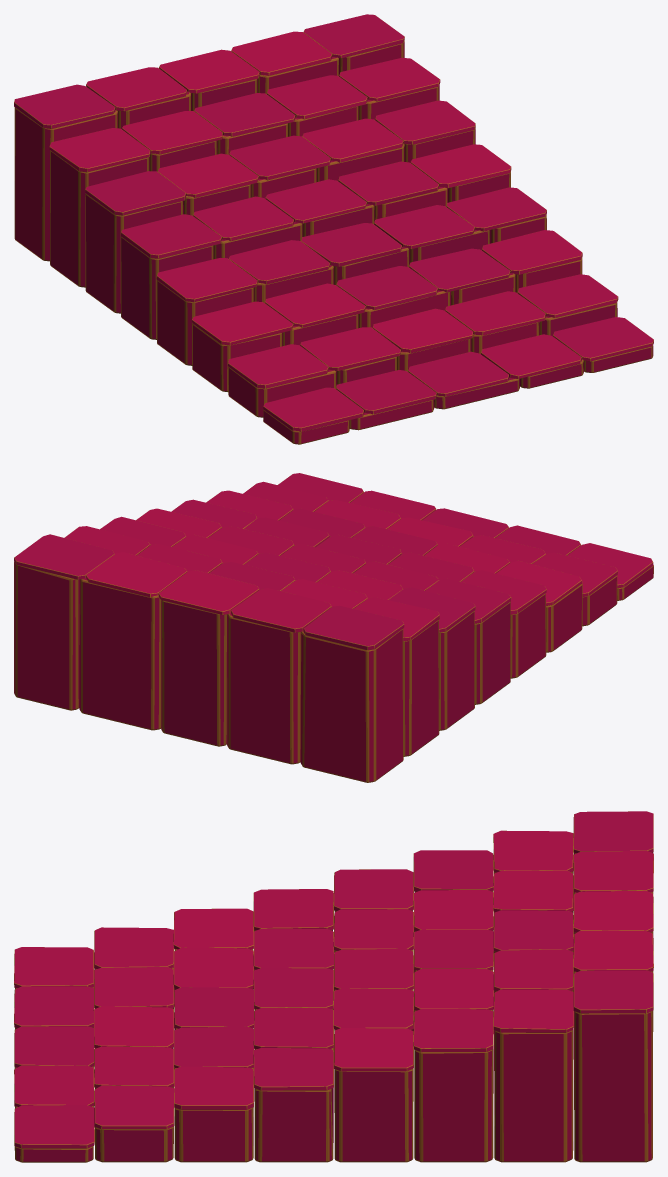
File: SM_RV_Steps.fbx
The picture shows the model from 3 angles, top to bottom: view 1: azimuth 30°, elevation 25°; view 2: azimuth 150°, elevation 25°; view 3: azimuth 270°, elevation 25°; orthographic projection. The views are drawn at different scales.
Parts seen in each view (by area): view 1: SM_RV_Steps; view 2: SM_RV_Steps; view 3: SM_RV_Steps.
Part boxes in pixels (x1,y1,x2,y2): SM_RV_Steps: [14, 14, 653, 444]; SM_RV_Steps: [14, 473, 653, 782]; SM_RV_Steps: [14, 811, 653, 1162].
Size of what is drawn, in the model's own units: 601 by 440 by 160.
